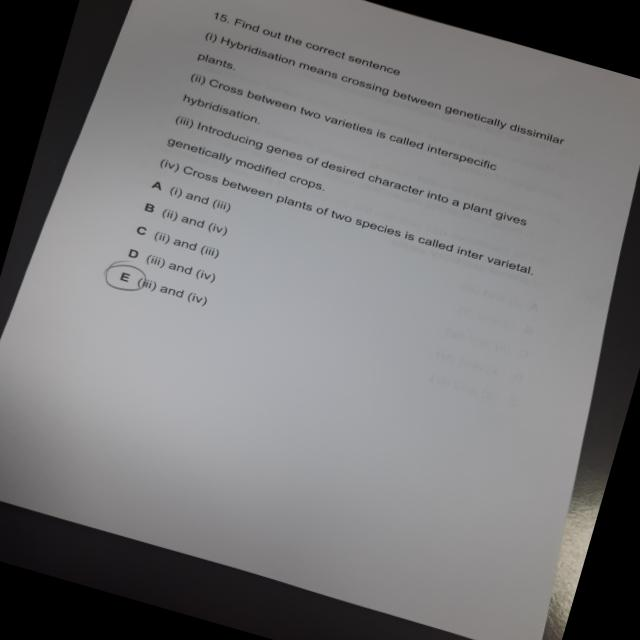E: (99, 257, 154, 300)
